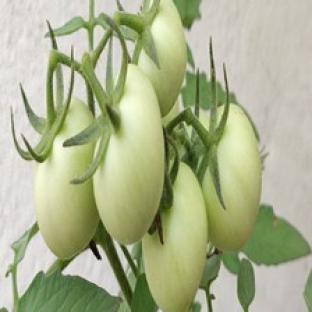Tomato: (94, 65, 164, 243), (35, 99, 98, 259), (143, 163, 207, 311), (202, 105, 261, 252), (162, 102, 179, 126)
